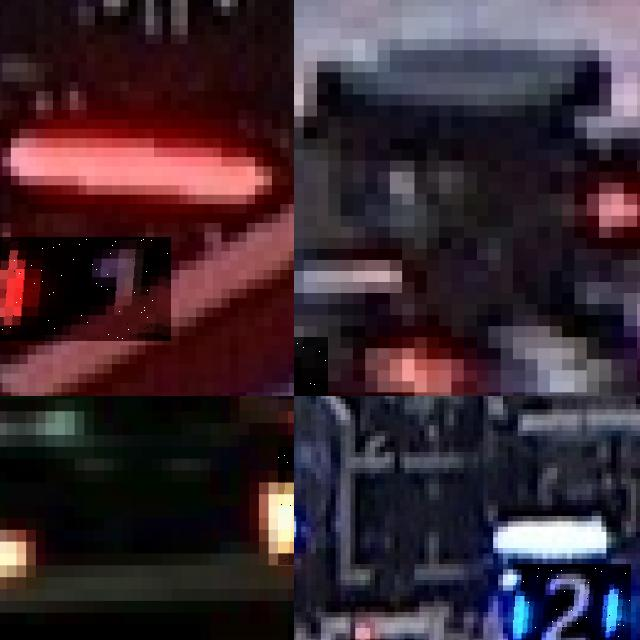B2: (513, 564, 631, 640), (294, 468, 311, 580)
R1: (0, 237, 170, 340)
